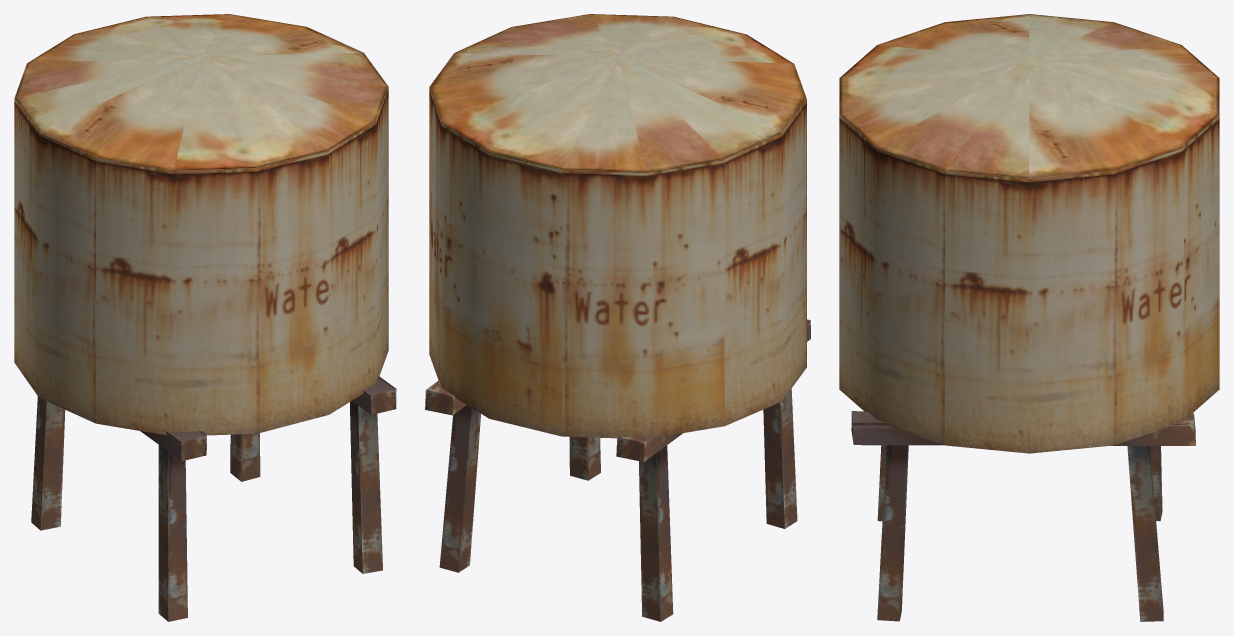
Rendered from watertank.fbx.
3 renders of one model, left to right at view 1: azimuth 30°, elevation 25°; view 2: azimuth 150°, elevation 25°; view 3: azimuth 270°, elevation 25°, orthographic. The views are drawn at different scales.
Parts seen in each view (by area): view 1: watertank01; view 2: watertank01; view 3: watertank01.
Part boxes in pixels (left/top/right/bottom): watertank01: left=14, top=14, right=396, bottom=621; watertank01: left=425, top=14, right=810, bottom=621; watertank01: left=839, top=14, right=1219, bottom=621.
Size of the model in its own units: 345 by 495 by 336.
Materials: 1 (1 with a texture image).
